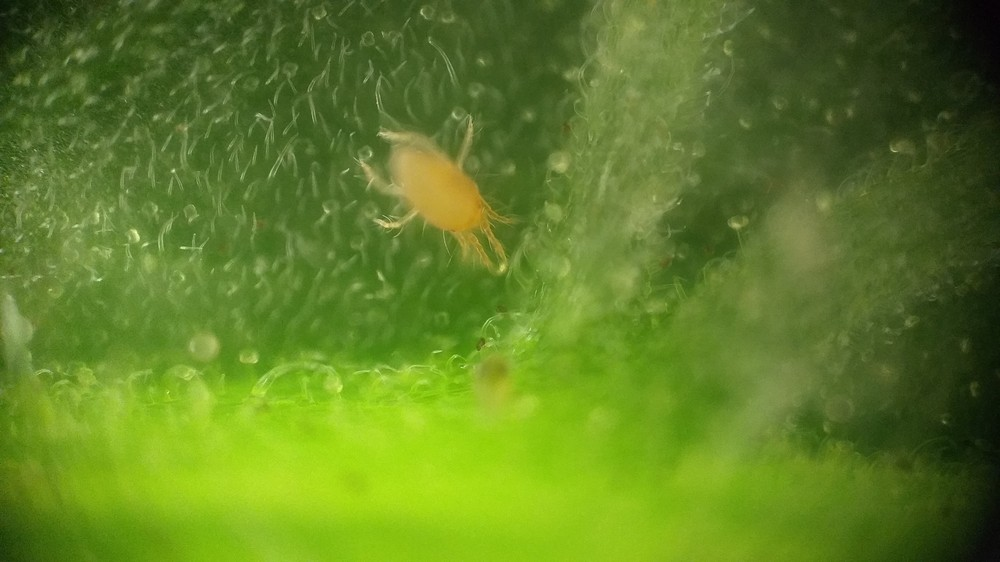Aracnido Rojo: (344, 107, 532, 292)
